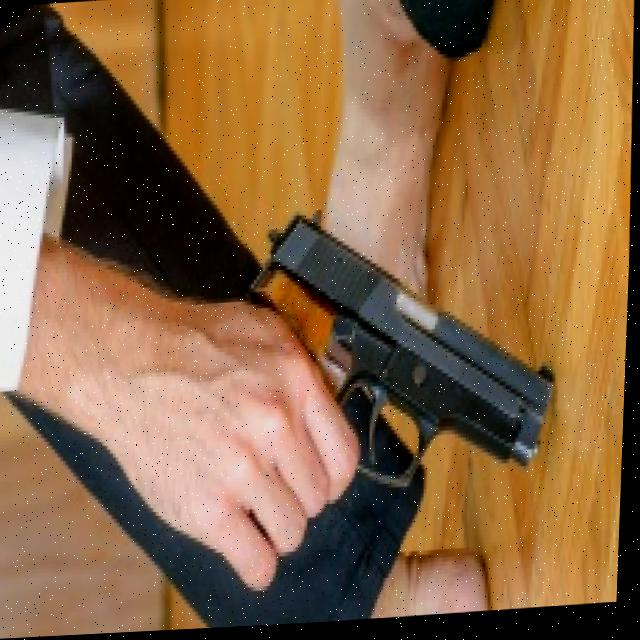pistol: (244, 205, 565, 481)
